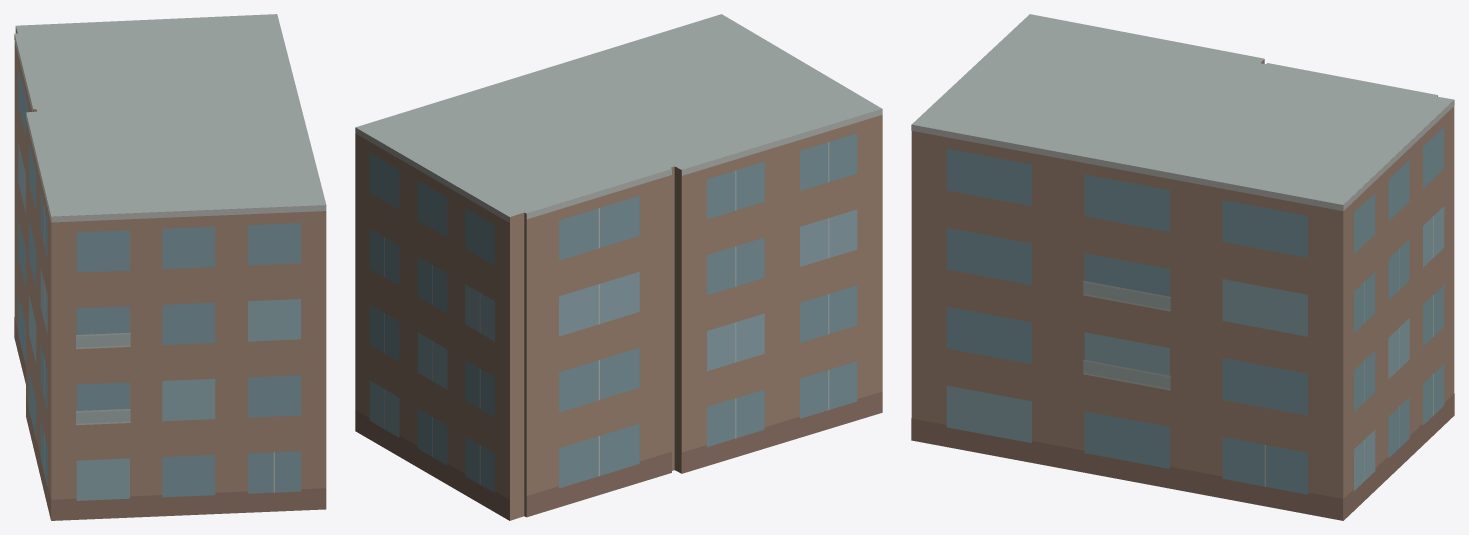
File: survey-upis-32672090.glb
The picture shows the model from 3 angles, left to right: view 1: azimuth 30°, elevation 25°; view 2: azimuth 150°, elevation 25°; view 3: azimuth 270°, elevation 25°; orthographic projection. The views are drawn at different scales.
Visible parts, largest first — view 1: survey-upis-32672090.tmp; view 2: survey-upis-32672090.tmp; view 3: survey-upis-32672090.tmp.
Boxes of the visible parts, x1=… form: survey-upis-32672090.tmp: x1=14, y1=14, x2=326, y2=520; survey-upis-32672090.tmp: x1=355, y1=14, x2=882, y2=520; survey-upis-32672090.tmp: x1=911, y1=14, x2=1454, y2=520.
Size of the model in its own units: 16.22 by 12.5 by 19.48.
